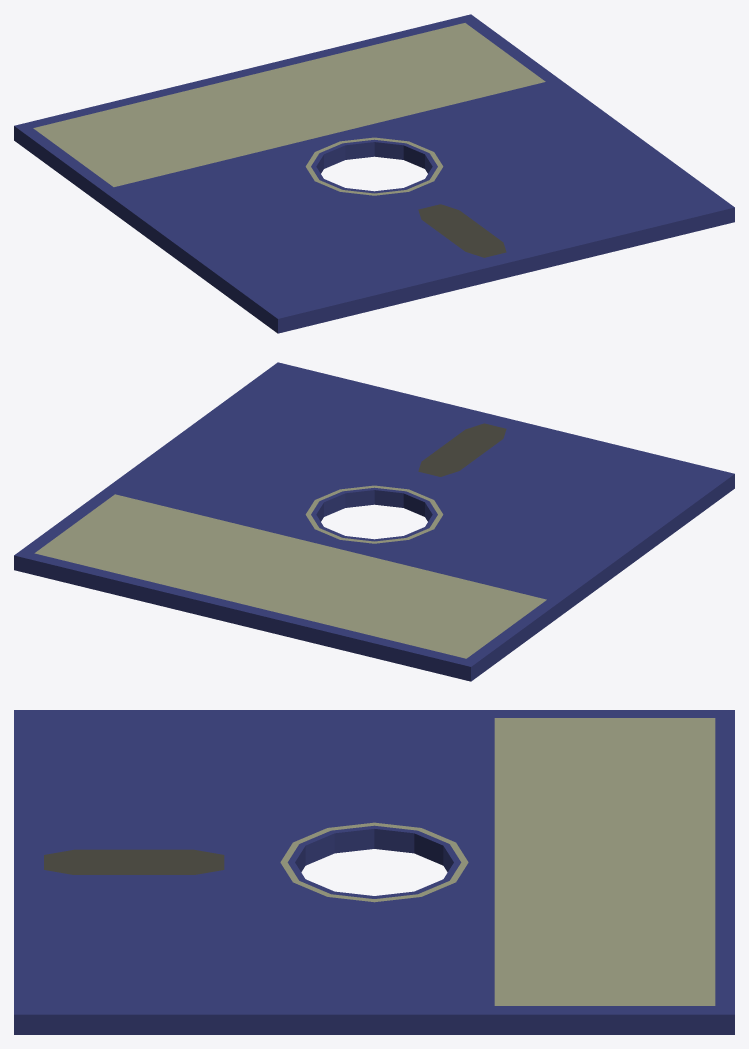
File: FloppyDiscBlue.fbx
3 renders of one model, top to bottom at view 1: azimuth 30°, elevation 25°; view 2: azimuth 150°, elevation 25°; view 3: azimuth 270°, elevation 25°, orthographic. The views are drawn at different scales.
Visible parts, largest first — view 1: 5.25FloppyDiskBlue; view 2: 5.25FloppyDiskBlue; view 3: 5.25FloppyDiskBlue.
Boxes of the visible parts, box(x1,y1,x2,y2) form: 5.25FloppyDiskBlue: box(14, 14, 734, 333); 5.25FloppyDiskBlue: box(14, 362, 734, 681); 5.25FloppyDiskBlue: box(14, 710, 734, 1034).
Size of the model in its own units: 13.27 by 0.4085 by 13.27.
